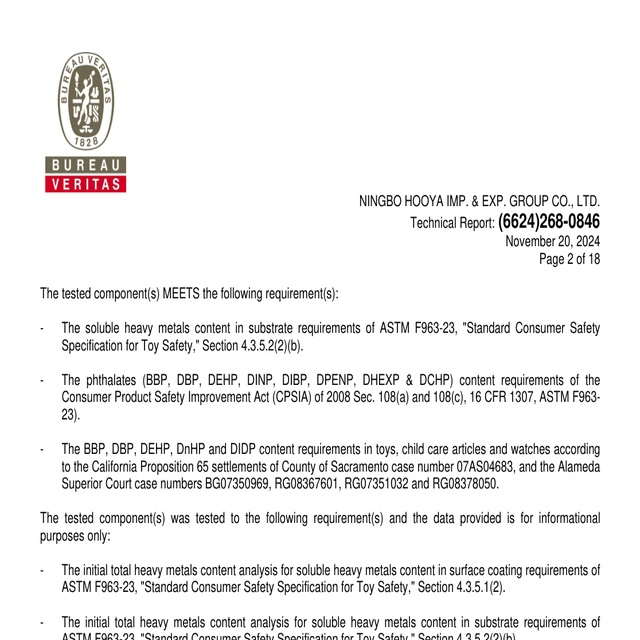bureau_veritas: (41, 48, 130, 194)
